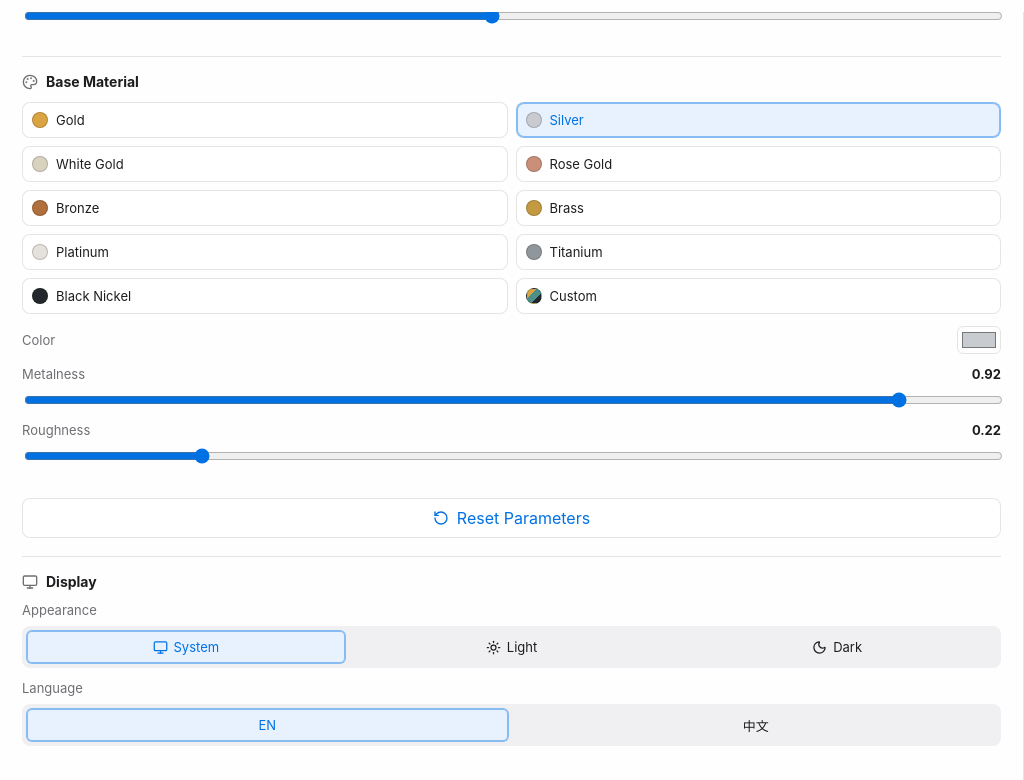
Scenario: ControlPanel › can switch the interface to Chinese
The width and height of the screenshot is (1024, 780).
(page scrolled)
Click the button "中文". click: (756, 725)
box: [514,708,997,742]
(page scrolled)
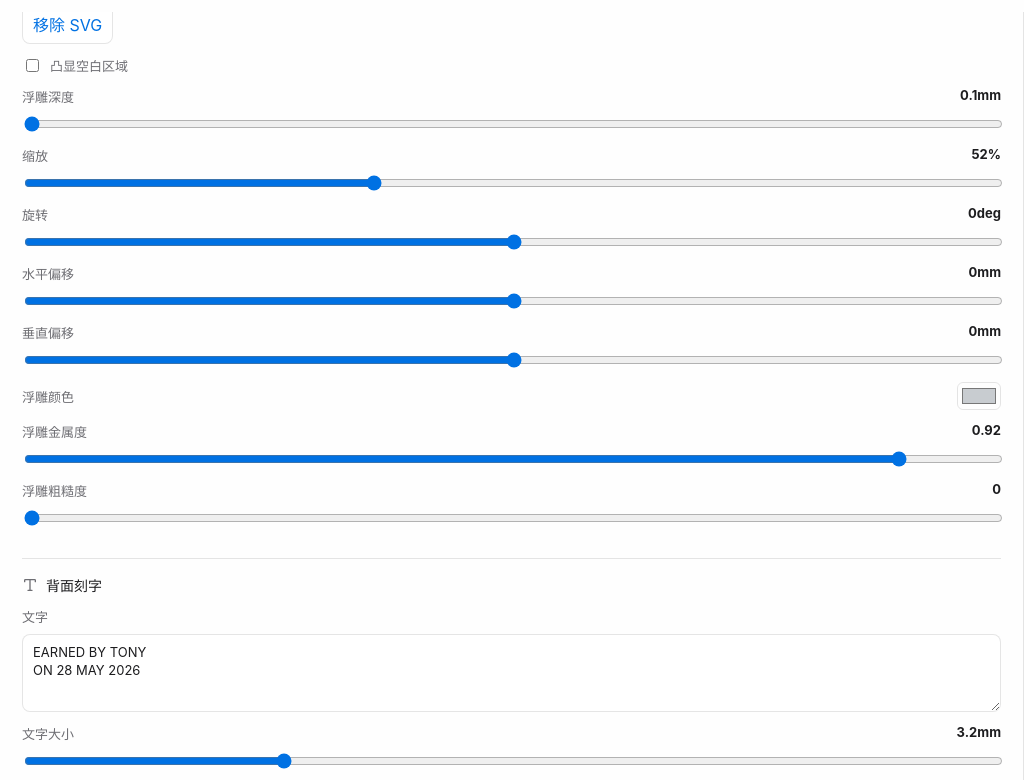
Now the text "浮雕颜色" is shown, box [22,386,74,406]
